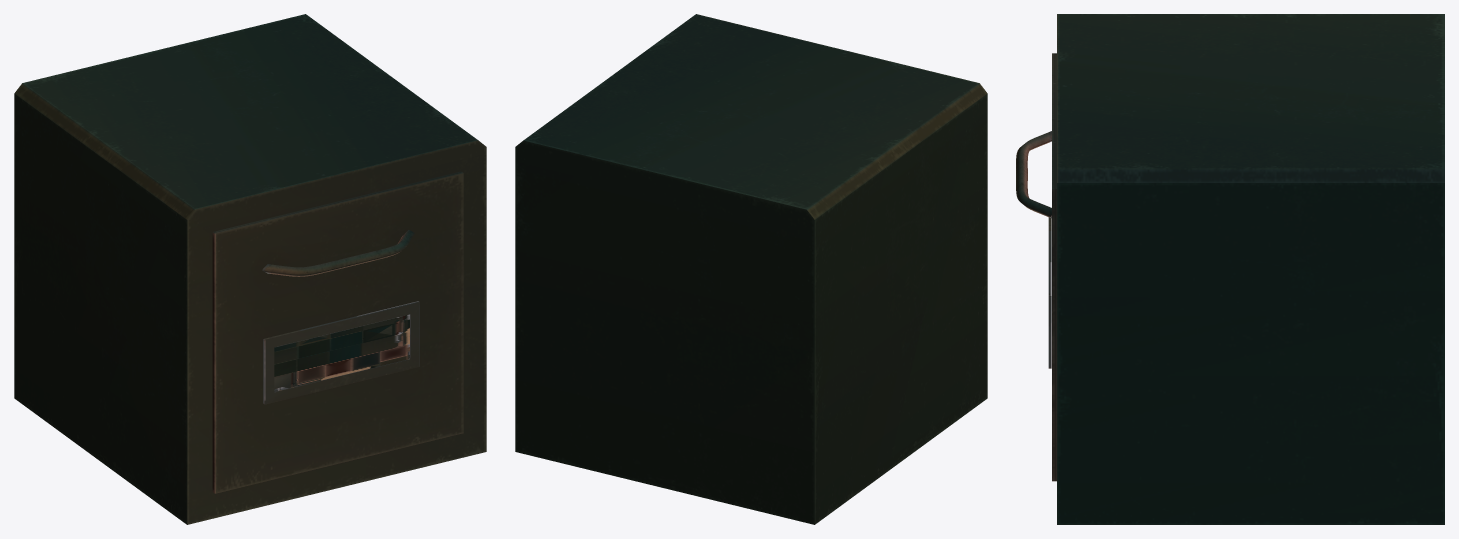
The model's file is Cabinet.glb.
3 renders of one model, left to right at view 1: azimuth 30°, elevation 25°; view 2: azimuth 150°, elevation 25°; view 3: azimuth 270°, elevation 25°, orthographic. The views are drawn at different scales.
Visible parts, largest first — view 1: cabinet, drawer, drawer-nametag, drawer-nametagholder, drawer-handle; view 2: cabinet; view 3: cabinet, drawer, drawer-handle, drawer-nametagholder.
Boxes of the visible parts, bbox=[...] form: cabinet: bbox=[14, 14, 486, 524]; drawer: bbox=[212, 171, 463, 493]; drawer-nametag: bbox=[274, 314, 409, 391]; drawer-nametagholder: bbox=[263, 301, 419, 404]; drawer-handle: bbox=[262, 230, 414, 276]; cabinet: bbox=[515, 14, 987, 524]; cabinet: bbox=[1057, 14, 1444, 524]; drawer: bbox=[1052, 53, 1056, 481]; drawer-handle: bbox=[1016, 131, 1051, 218]; drawer-nametagholder: bbox=[1048, 217, 1051, 368].
Bounding box in the file's own units: 2.6 × 2.6 × 2.87.
Materials: 2 (1 with a texture image).
